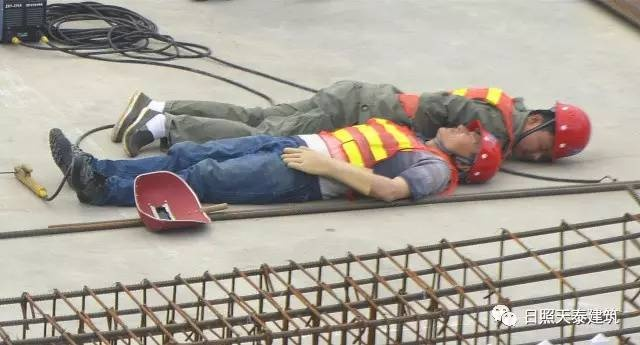falling: (74, 74, 570, 157)
